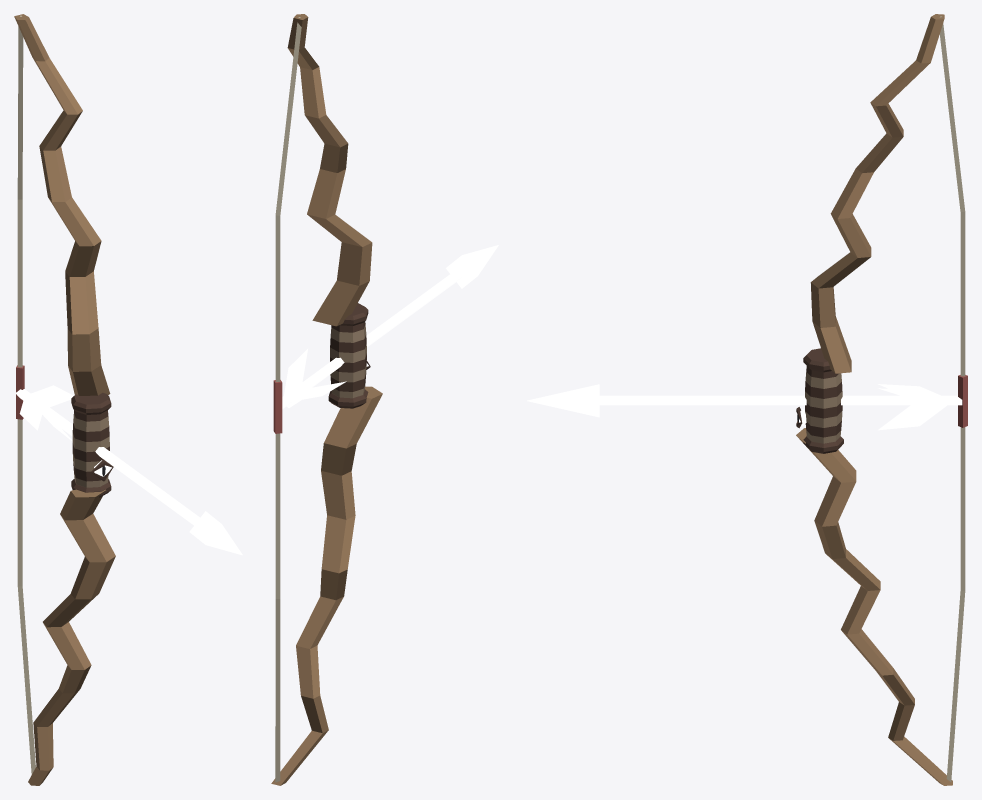
Rendered from bow-childs-bow.glb.
3 renders of one model, left to right at view 1: azimuth 30°, elevation 25°; view 2: azimuth 150°, elevation 25°; view 3: azimuth 270°, elevation 25°, orthographic. The views are drawn at different scales.
Visible parts, largest first — view 1: bow-childs-bow, string, pulse_arrow; view 2: bow-childs-bow, string, pulse_arrow; view 3: bow-childs-bow, pulse_arrow, string.
Part boxes in pixels (left/top/right/bottom): bow-childs-bow: left=14, top=14, right=115, bottom=785; string: left=16, top=15, right=35, bottom=774; pulse_arrow: left=15, top=385, right=242, bottom=555; bow-childs-bow: left=271, top=14, right=382, bottom=785; string: left=273, top=17, right=301, bottom=782; pulse_arrow: left=282, top=245, right=498, bottom=409; bow-childs-bow: left=796, top=14, right=952, bottom=785; pulse_arrow: left=527, top=384, right=962, bottom=430; string: left=939, top=16, right=967, bottom=781.
Size of the model in its own units: 0.0943 by 1.36 by 0.7158.
